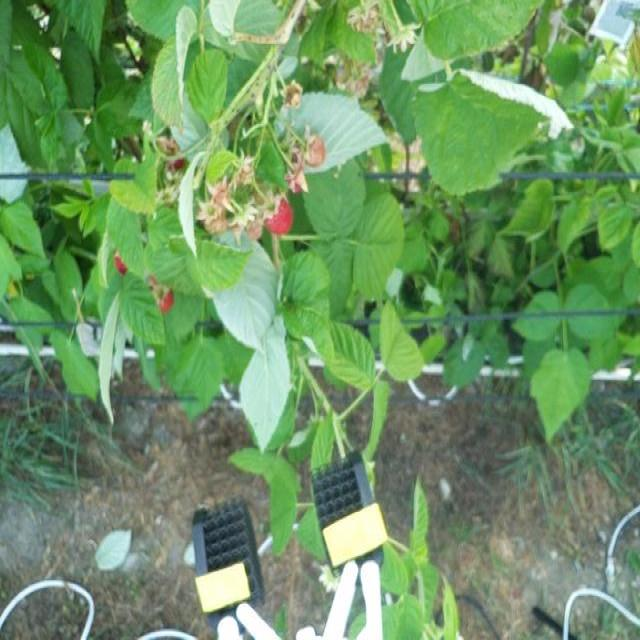Riped berries: (263, 192, 294, 237), (151, 281, 179, 314), (284, 160, 310, 194), (109, 246, 135, 277), (167, 143, 190, 171)
